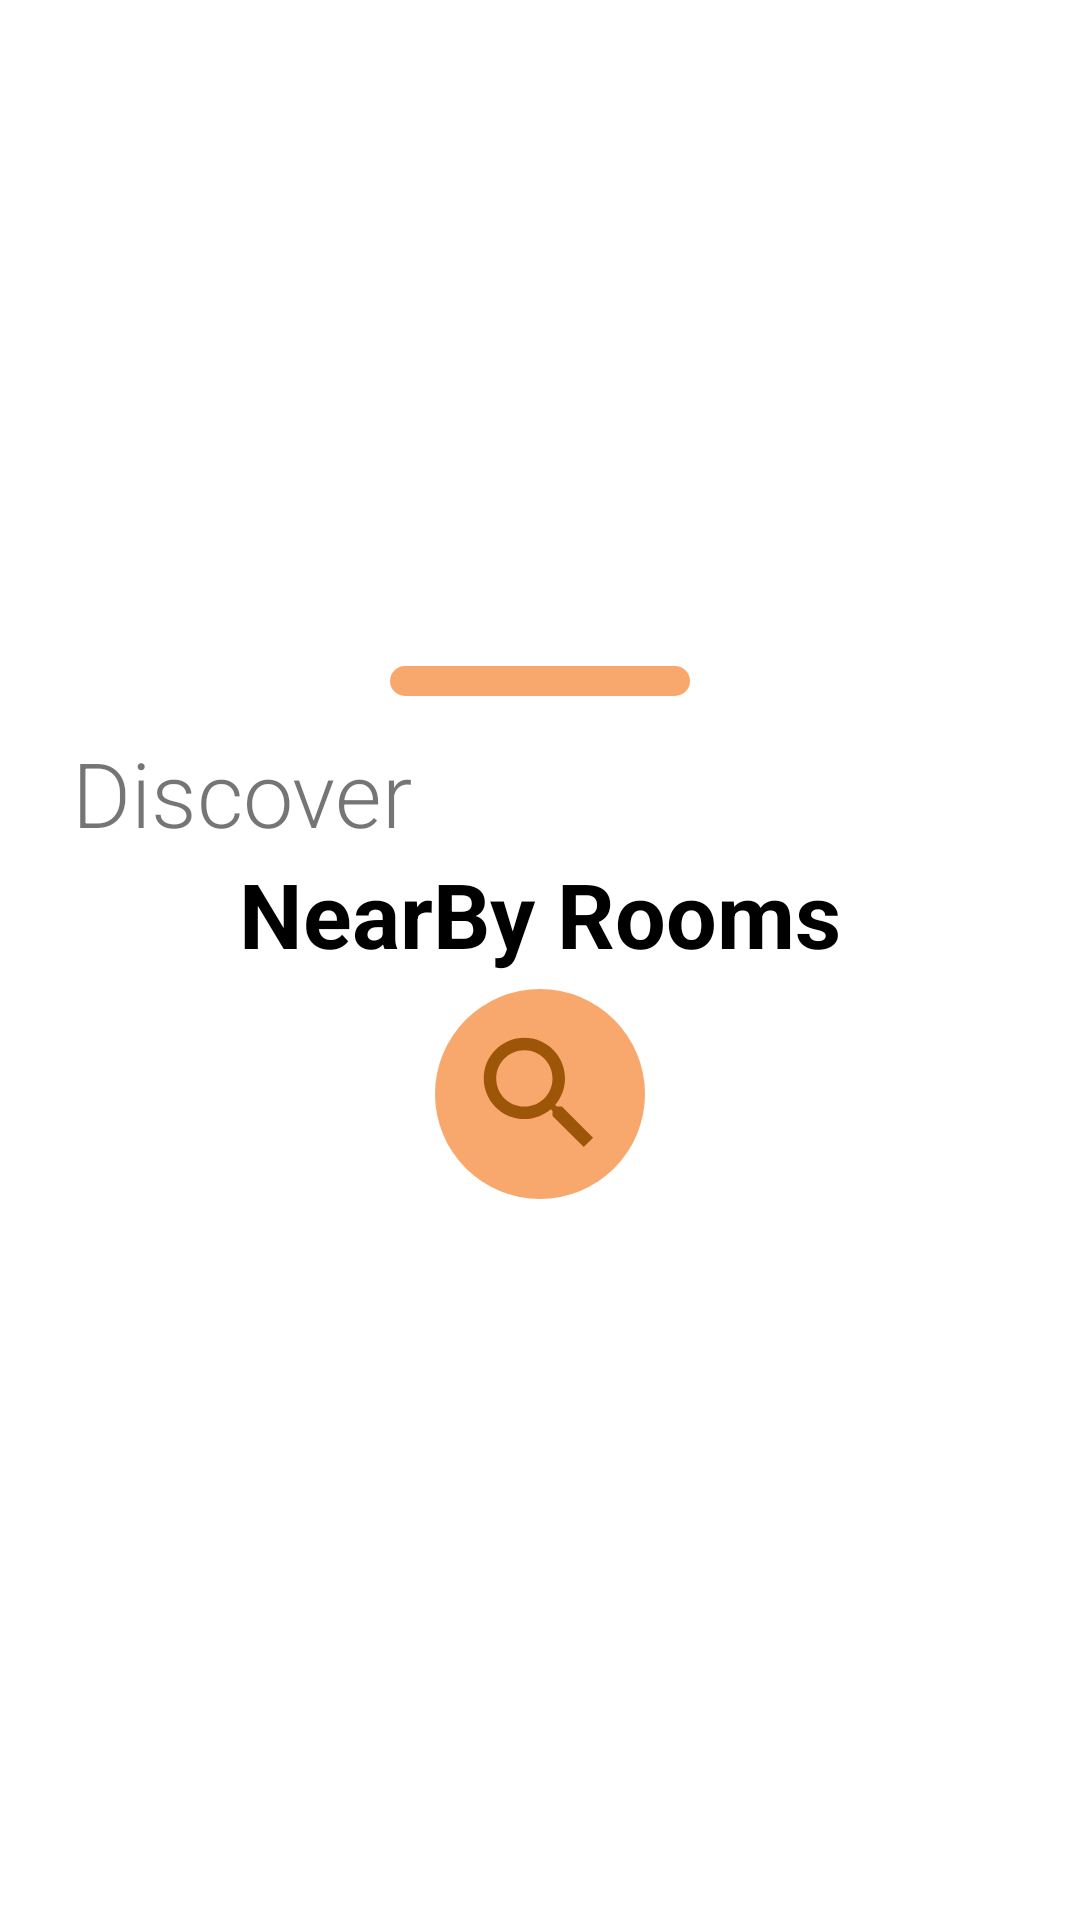

Icons on this 1080*1920 Android screen, each with the point to tap as (x,y):
search: (540,1094)
